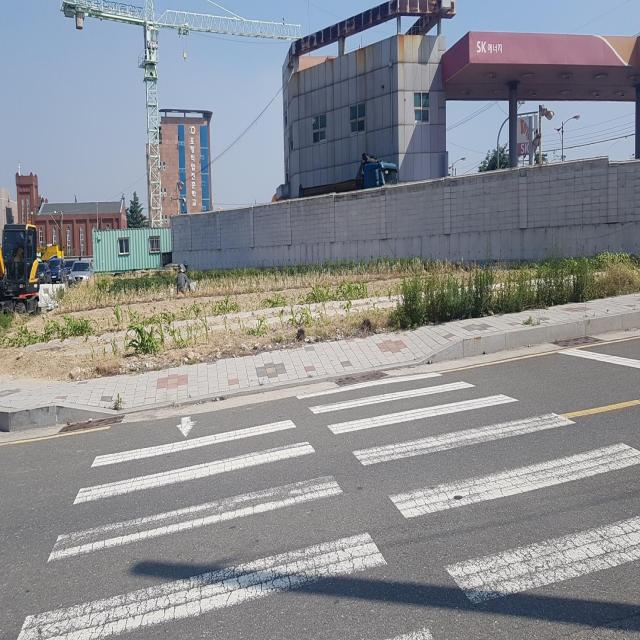횡단보도: (14, 361, 640, 640)
